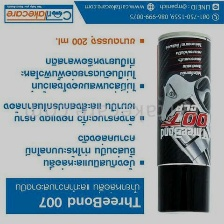aerosol_cans: (151, 29, 214, 216)
